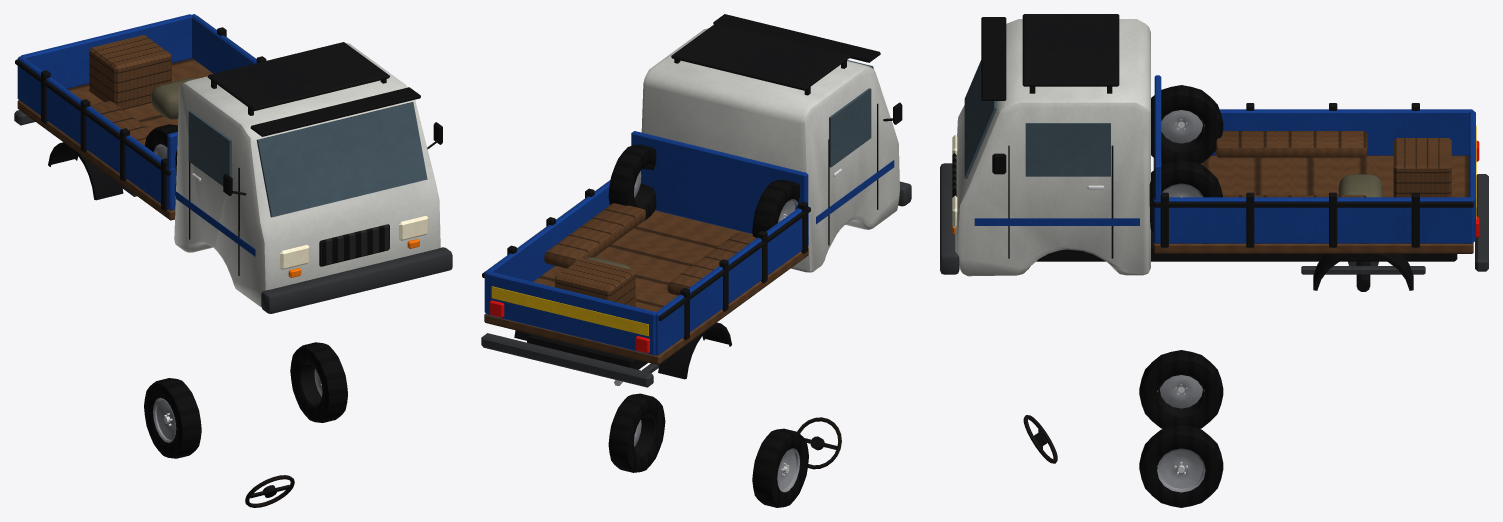
File: ChhotaHaathiPickup.fbx
The picture shows the model from 3 angles, left to right: view 1: azimuth 30°, elevation 25°; view 2: azimuth 150°, elevation 25°; view 3: azimuth 270°, elevation 25°; orthographic projection. The views are drawn at different scales.
Parts seen in each view (by area): view 1: Body_LOD0, Wheel_FL_Mesh_LOD0, Wheel_FR_Mesh_LOD0, Steering_Pivot_Mesh_LOD0, Wheel_RR_Mesh_LOD0; view 2: Body_LOD0, Wheel_FL_Mesh_LOD0, Wheel_FR_Mesh_LOD0, Wheel_RL_Mesh_LOD0, Wheel_RR_Mesh_LOD0, Steering_Pivot_Mesh_LOD0; view 3: Body_LOD0, Wheel_FL_Mesh_LOD0, Wheel_FR_Mesh_LOD0, Wheel_RR_Mesh_LOD0, Wheel_RL_Mesh_LOD0, Steering_Pivot_Mesh_LOD0.
Part boxes in pixels (box(x1,y1,x2,y2)): Body_LOD0: box(14, 14, 452, 313); Wheel_FL_Mesh_LOD0: box(290, 342, 347, 422); Wheel_FR_Mesh_LOD0: box(144, 378, 201, 458); Steering_Pivot_Mesh_LOD0: box(245, 475, 294, 507); Wheel_RR_Mesh_LOD0: box(144, 124, 177, 195); Body_LOD0: box(481, 14, 911, 387); Wheel_FL_Mesh_LOD0: box(608, 393, 665, 472); Wheel_FR_Mesh_LOD0: box(752, 428, 808, 507); Wheel_RL_Mesh_LOD0: box(608, 144, 656, 220); Wheel_RR_Mesh_LOD0: box(752, 179, 799, 237); Steering_Pivot_Mesh_LOD0: box(797, 417, 841, 469); Body_LOD0: box(940, 14, 1488, 291); Wheel_FL_Mesh_LOD0: box(1139, 424, 1223, 507); Wheel_FR_Mesh_LOD0: box(1139, 350, 1223, 428); Wheel_RR_Mesh_LOD0: box(1151, 85, 1223, 163); Wheel_RL_Mesh_LOD0: box(1149, 159, 1222, 231); Steering_Pivot_Mesh_LOD0: box(1023, 415, 1057, 463).
Size of what is drawn, in the model's own units: 1.88 by 3.47 by 3.98.
